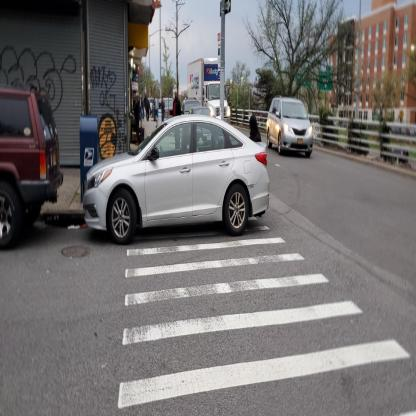Crosswalk: (115, 223, 404, 416)
